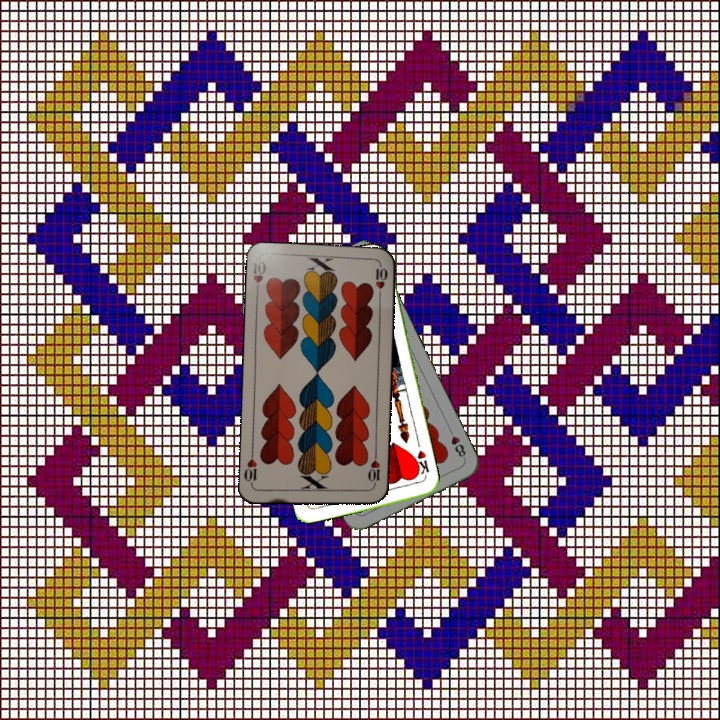H10: (249, 257, 269, 298), (364, 450, 383, 490)
H8: (444, 424, 468, 462)
HK: (409, 446, 432, 481)
